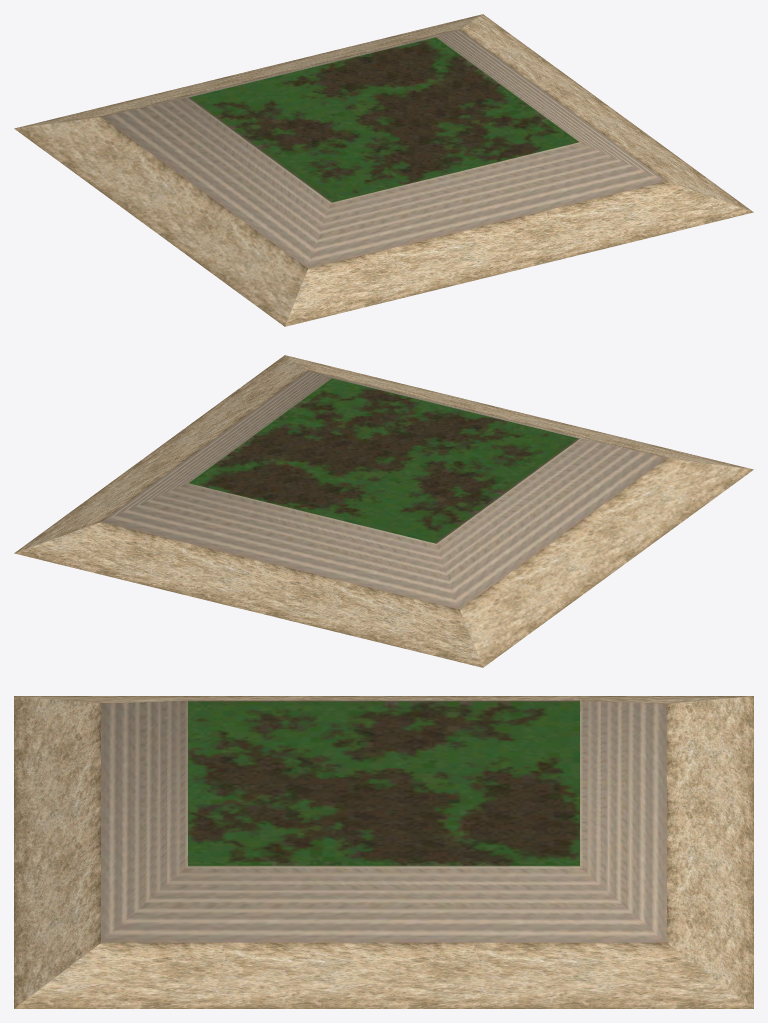
The model's file is ply_nboo_garden_med_s01_l2.fbx.
3 renders of one model, top to bottom at view 1: azimuth 30°, elevation 25°; view 2: azimuth 150°, elevation 25°; view 3: azimuth 270°, elevation 25°, orthographic. The views are drawn at different scales.
Parts seen in each view (by area): view 1: mesh_node; view 2: mesh_node; view 3: mesh_node.
Boxes of the visible parts, <box> form: mesh_node: <box>14,14,753,326</box>; mesh_node: <box>14,355,753,667</box>; mesh_node: <box>14,696,753,1008</box>.
Bounding box in the file's own units: 34 × 3.5 × 34.
